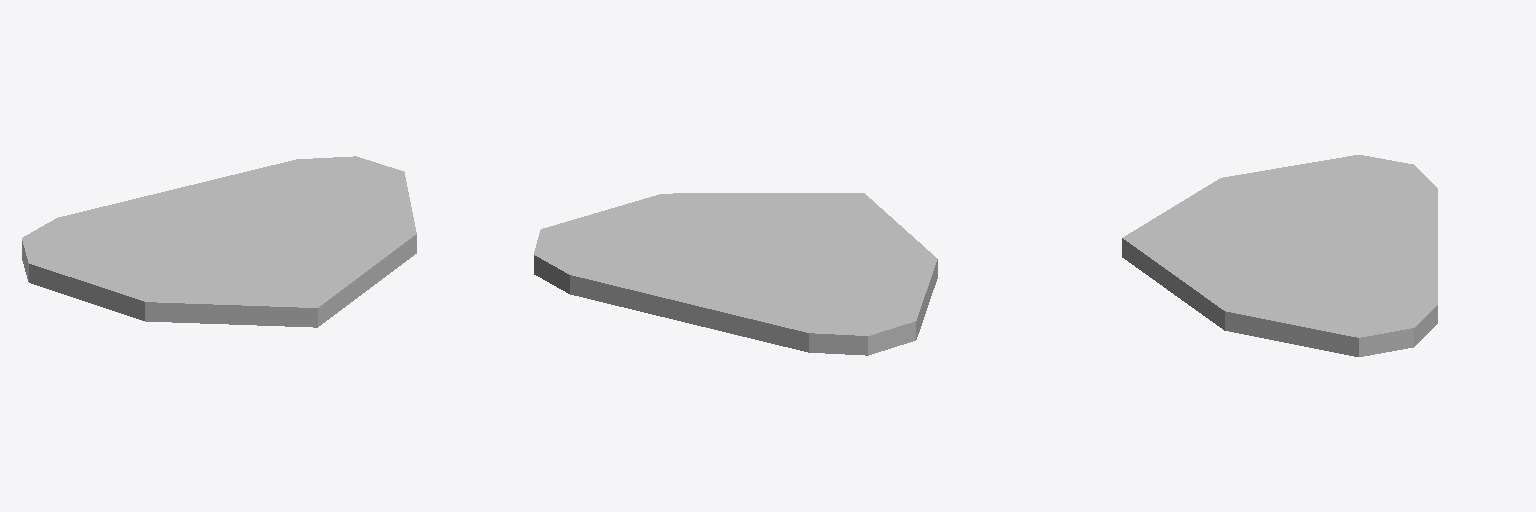
Rendered from original-19.obj.
3 renders of one model, left to right at view 1: azimuth 30°, elevation 25°; view 2: azimuth 150°, elevation 25°; view 3: azimuth 270°, elevation 25°, orthographic.
Parts seen in each view (by area): view 1: mesh17/mesh17-geometry#mesh17-geometry; view 2: mesh17/mesh17-geometry#mesh17-geometry; view 3: mesh17/mesh17-geometry#mesh17-geometry.
Part boxes in pixels (x1,y1,x2,y2): mesh17/mesh17-geometry#mesh17-geometry: (22,156,416,327); mesh17/mesh17-geometry#mesh17-geometry: (534,193,937,355); mesh17/mesh17-geometry#mesh17-geometry: (1122,155,1437,356).
Size of the model in its own units: 0.0133 by 0.0007 by 0.0097.